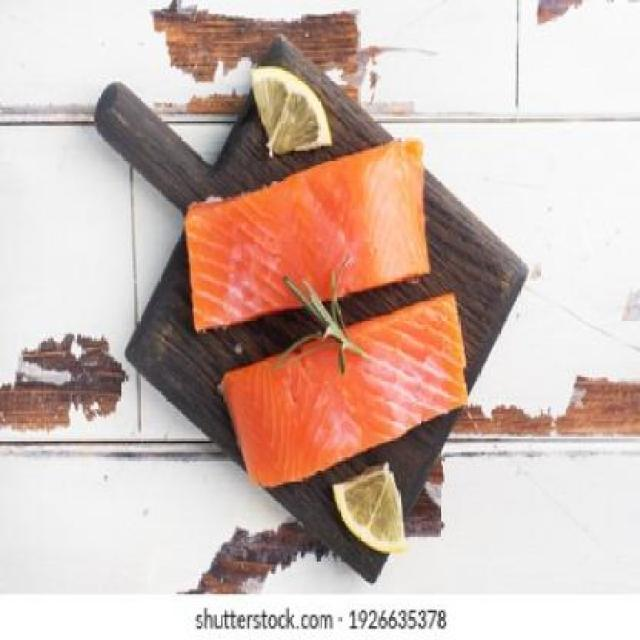salmon: (168, 132, 458, 332), (209, 293, 495, 492)
